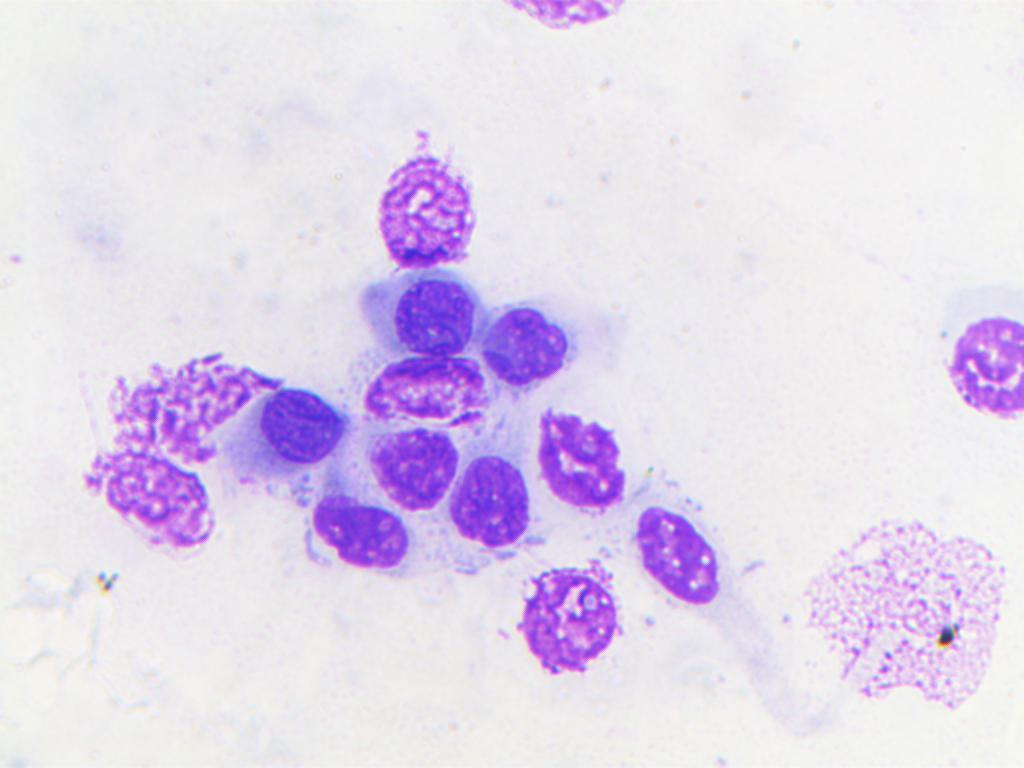artifact: (795, 500, 1010, 727), (72, 429, 217, 563), (362, 111, 477, 273), (98, 346, 257, 458)
epithelial: (505, 557, 625, 684), (631, 486, 727, 617), (352, 353, 497, 433), (259, 388, 362, 500), (536, 406, 634, 523), (939, 300, 1024, 426), (444, 440, 536, 554), (371, 266, 471, 353), (481, 296, 567, 397), (369, 426, 460, 518), (310, 493, 403, 574)
